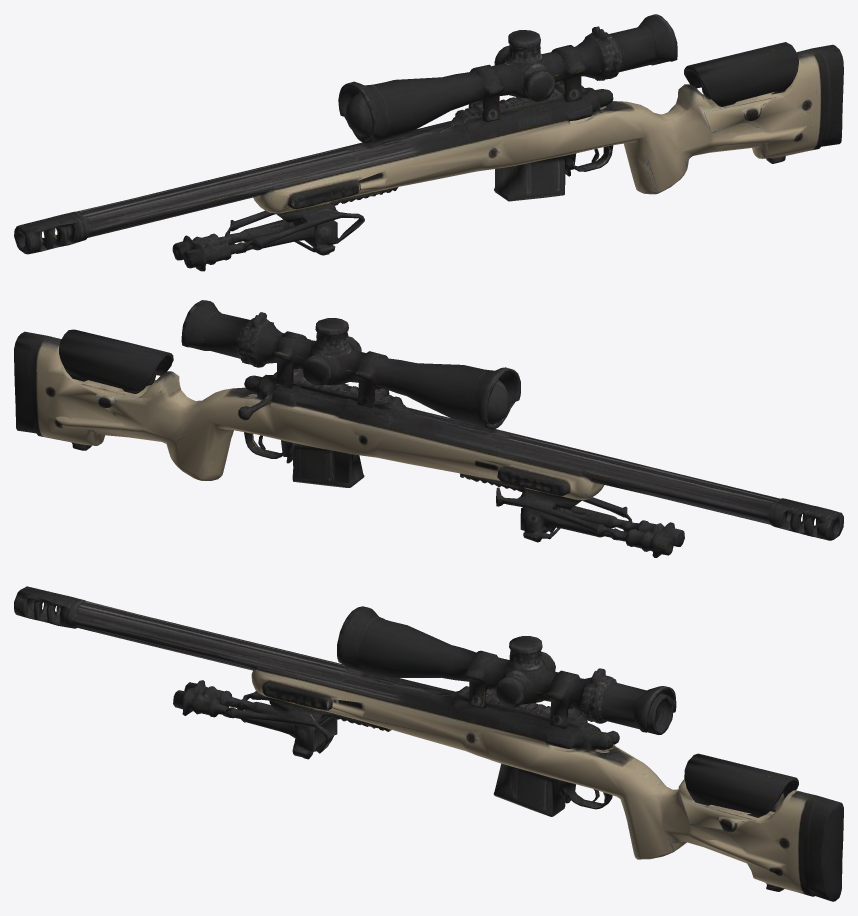
Rendered from wpn_sniper.glb.
3 views of the same model, one above another, from view 1: azimuth 30°, elevation 25°; view 2: azimuth 150°, elevation 25°; view 3: azimuth 330°, elevation 25° (orthographic).
Visible parts, largest first — view 1: Mesh_0; view 2: Mesh_0; view 3: Mesh_0.
Part boxes in pixels (<box>): Mesh_0: <box>14,14,843,271</box>; Mesh_0: <box>14,300,843,557</box>; Mesh_0: <box>14,586,843,901</box>.
Bounding box in the file's own units: 1.9 × 0.4111 × 0.1657.
1 material, 1 textured.
